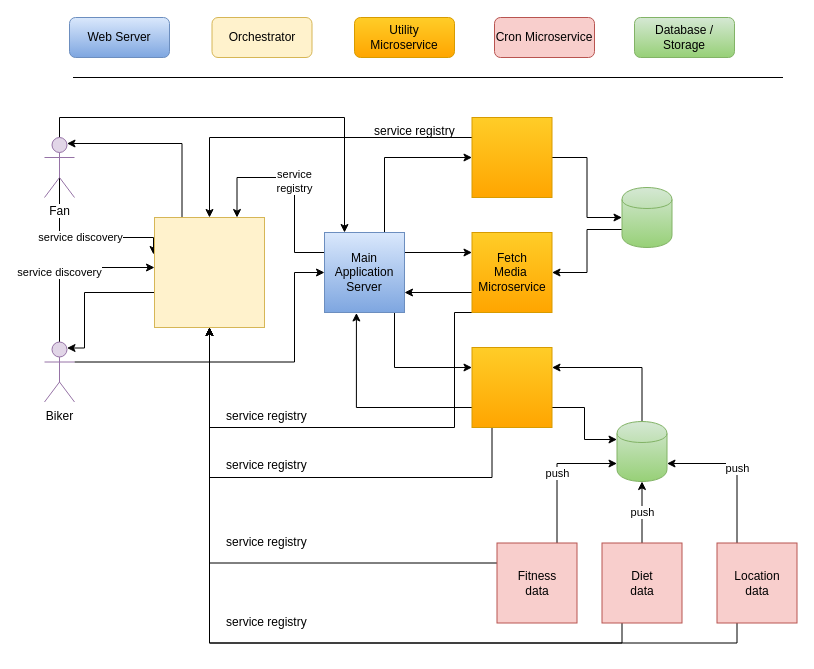
The diagram is 814 pixels wide and 669 high, and some of its shapes have lost their labels. Here are the shapes that lost their labels. From the top down, the box of each, then its label:
(471, 116, 552, 198): Upload Media Microservice
(621, 186, 672, 248): bucket
(154, 216, 264, 328): Zookeeper (registry)
(471, 346, 552, 428): Database Microservice
(616, 420, 667, 482): db
